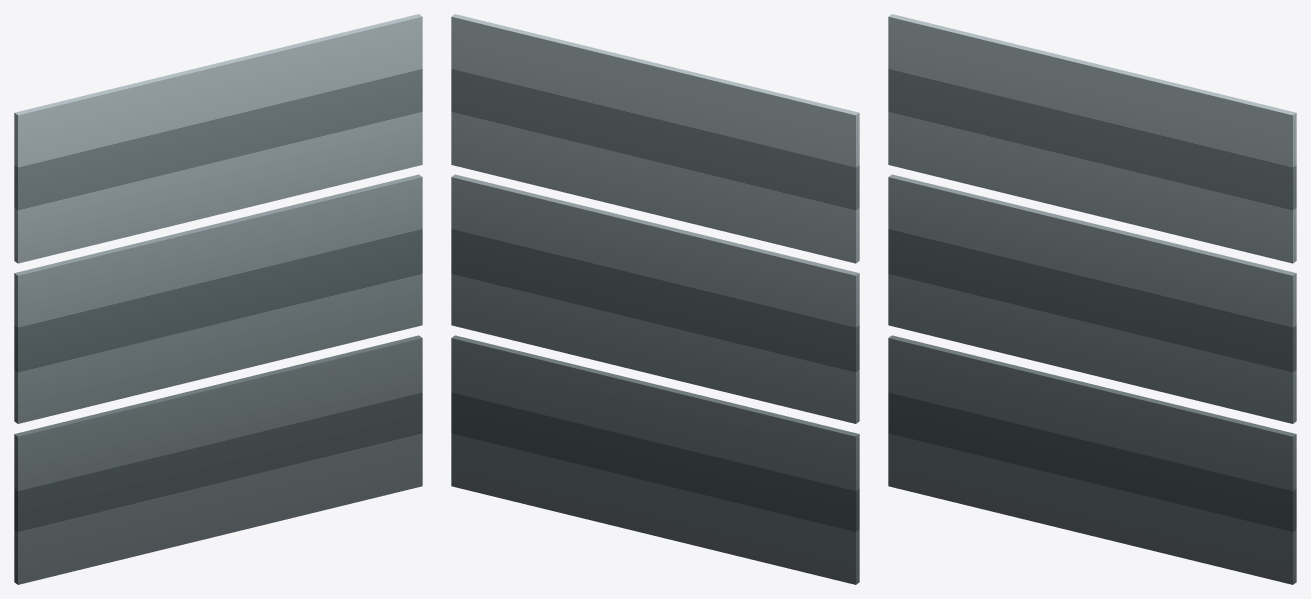
The model's file is prop_barrier_1M.FBX.
The picture shows the model from 3 angles, left to right: view 1: azimuth 30°, elevation 25°; view 2: azimuth 150°, elevation 25°; view 3: azimuth 330°, elevation 25°; orthographic projection.
Visible parts, largest first — view 1: prop_barrier_1M; view 2: prop_barrier_1M; view 3: prop_barrier_1M.
Boxes of the visible parts, left/top/right/bottom form: prop_barrier_1M: left=14, top=14, right=422, bottom=584; prop_barrier_1M: left=451, top=14, right=859, bottom=584; prop_barrier_1M: left=888, top=14, right=1296, bottom=584.
Bounding box in the file's own units: 39.37 × 43.66 × 0.6246.
1 material, 1 textured.
